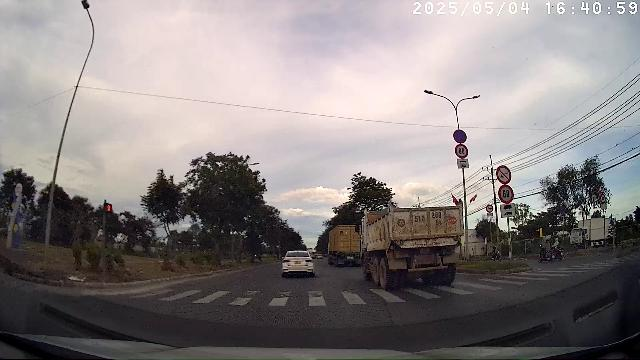127-toc-do-toi-da-50: (599, 185, 605, 193)
127-toc-do-toi-da-60: (498, 185, 514, 203)
127-toc-do-toi-da-80: (455, 144, 469, 158)
130-cam-dung-va-do-xe: (453, 130, 467, 143)
